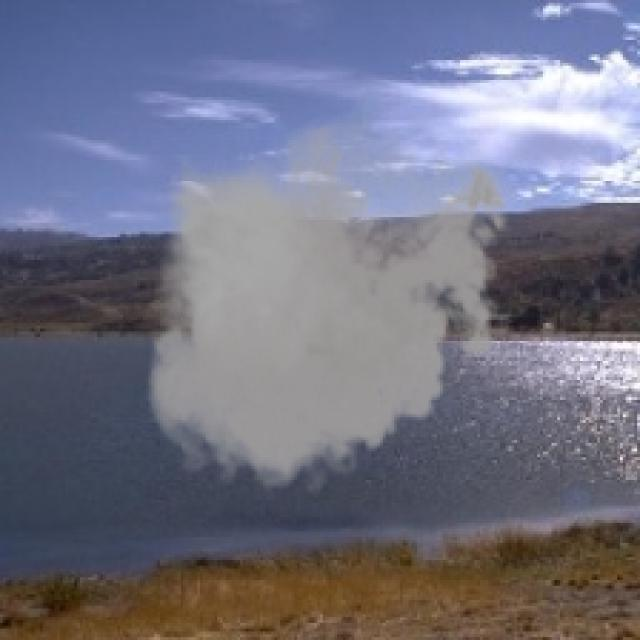Smoke: (135, 100, 520, 503)
